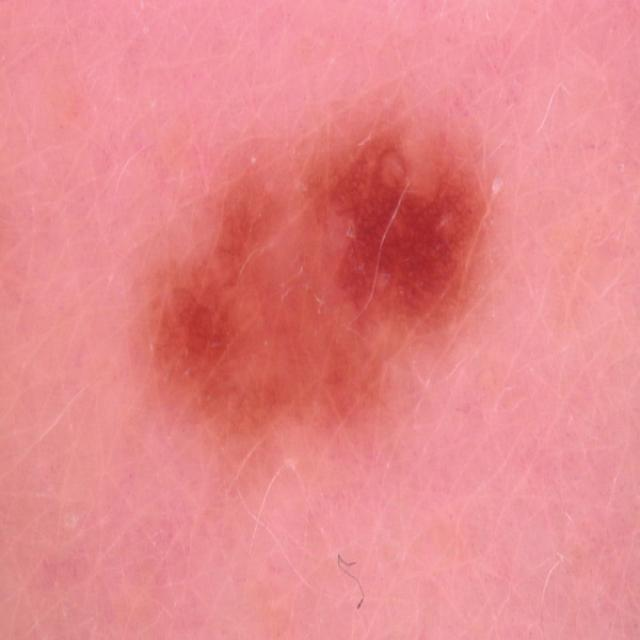NV: (125, 84, 503, 476)
